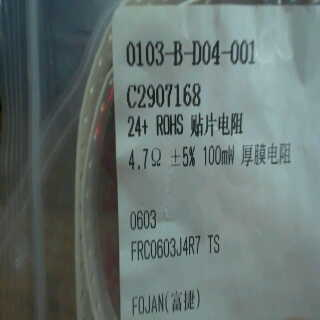4.7R: (120, 145, 166, 175)
